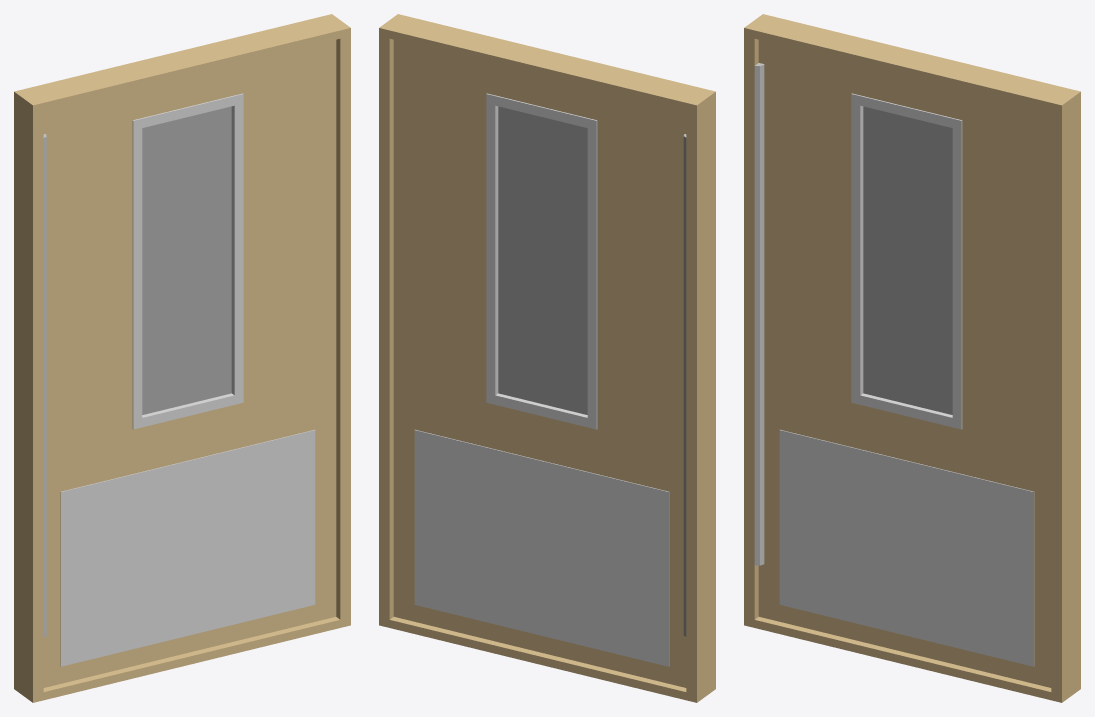
The model's file is a door.fbx.
3 views of the same model, side by side, from view 1: azimuth 30°, elevation 25°; view 2: azimuth 150°, elevation 25°; view 3: azimuth 330°, elevation 25° (orthographic).
Visible parts, largest first — view 1: Cube_10, Boole_2; view 2: Cube_10, Boole_2; view 3: Cube_10, Boole_2.
Part boxes in pixels (bbox=[...]): Cube_10: bbox=[43, 40, 336, 687]; Boole_2: bbox=[14, 14, 350, 702]; Cube_10: bbox=[393, 40, 686, 687]; Boole_2: bbox=[379, 14, 715, 702]; Cube_10: bbox=[754, 40, 1051, 687]; Boole_2: bbox=[744, 14, 1080, 702].
Size of the model in its own units: 133 by 239 by 13.77.
